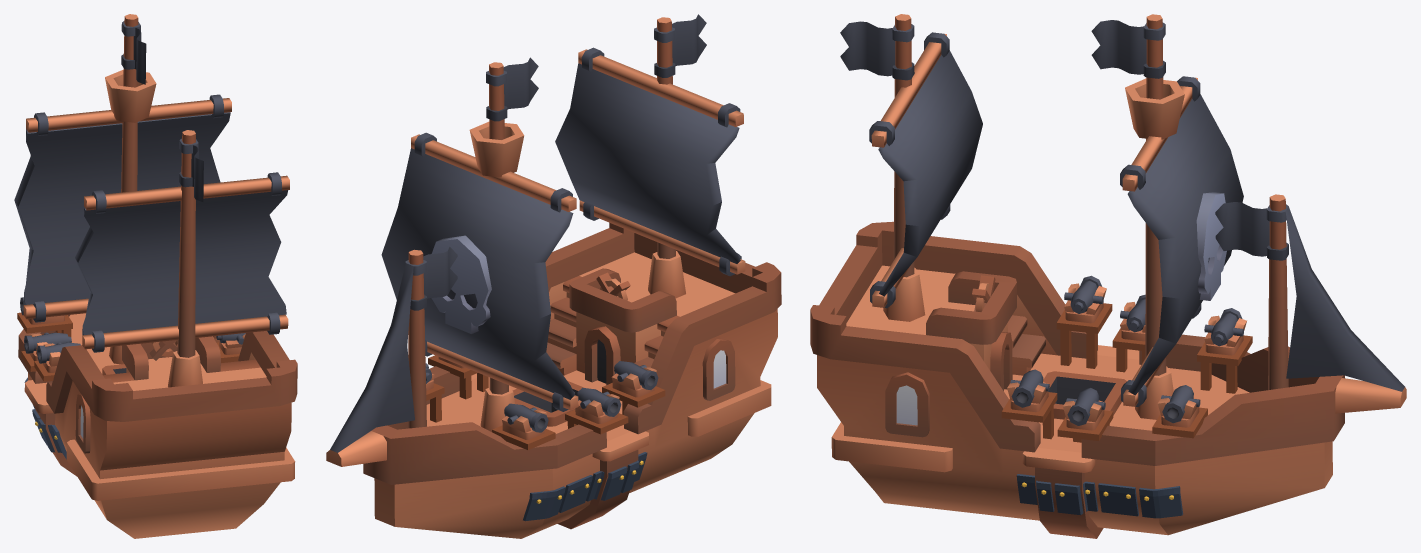
File: ship-corsair.glb
3 views of the same model, side by side, from view 1: azimuth 30°, elevation 25°; view 2: azimuth 150°, elevation 25°; view 3: azimuth 270°, elevation 25° (orthographic). The views are drawn at different scales.
Visible parts, largest first — view 1: Hull + rigging.002, sail-b.004, sail-a.007, flag-b.004, flag-c.007, Fitted cannon.014, Gun platform • timber saddle.013, Fitted cannon.015, Fitted armor • 1 3.001, Fitted cannon.012; view 2: Hull + rigging.002, sail-a.007, sail-b.004, flag-b.004, flag-c.007, flag-a.004, Fitted cannon.013, Fitted cannon.015, Fitted cannon.014, Fitted armor • 1 0.001, Fitted armor • 1 2.001, Fitted armor • 1 1.001 (+3 smaller); view 3: Hull + rigging.002, sail-a.007, sail-b.004, flag-c.007, flag-b.004, flag-a.004, Fitted armor • -1 0.001, Fitted cannon.015, Fitted cannon.013, Fitted armor • -1 2.001, Fitted armor • -1 1.001, Fitted cannon.010 (+9 smaller).
Part boxes in pixels (x1,y1,x2,y2): Hull + rigging.002: (18, 14, 297, 538); sail-b.004: (75, 172, 289, 352); sail-a.007: (14, 94, 231, 322); flag-b.004: (121, 21, 146, 84); flag-c.007: (179, 138, 203, 201); Fitted cannon.014: (24, 332, 71, 361); Gun platform • timber saddle.013: (17, 312, 72, 333); Fitted cannon.015: (37, 342, 80, 372); Fitted armor • 1 3.001: (38, 419, 66, 459); Fitted cannon.012: (216, 333, 245, 354); Hull + rigging.002: (326, 17, 781, 538); sail-a.007: (381, 132, 578, 411); sail-b.004: (555, 47, 745, 276); flag-b.004: (486, 57, 538, 121); flag-c.007: (654, 14, 706, 77); flag-a.004: (405, 247, 457, 310); Fitted cannon.013: (502, 403, 548, 439); Fitted cannon.015: (612, 361, 658, 397); Fitted cannon.014: (575, 387, 621, 423); Fitted armor • 1 0.001: (523, 486, 565, 521); Fitted armor • 1 2.001: (586, 466, 627, 501); Fitted armor • 1 1.001: (558, 475, 592, 512); Hull + rigging.002: (810, 14, 1406, 538); sail-a.007: (1120, 76, 1243, 406); sail-b.004: (869, 32, 982, 308); flag-c.007: (840, 21, 914, 80); flag-b.004: (1091, 20, 1165, 78); flag-a.004: (1215, 202, 1288, 260); Fitted armor • -1 0.001: (1139, 486, 1183, 518); Fitted cannon.015: (1064, 275, 1103, 323); Fitted cannon.013: (1204, 308, 1243, 355); Fitted armor • -1 2.001: (1054, 481, 1098, 515); Fitted armor • -1 1.001: (1098, 483, 1138, 516); Fitted cannon.010: (1161, 385, 1200, 427).
Size of the model in its own units: 5.97 by 9.98 by 10.74.
5 materials, 2 textured.
